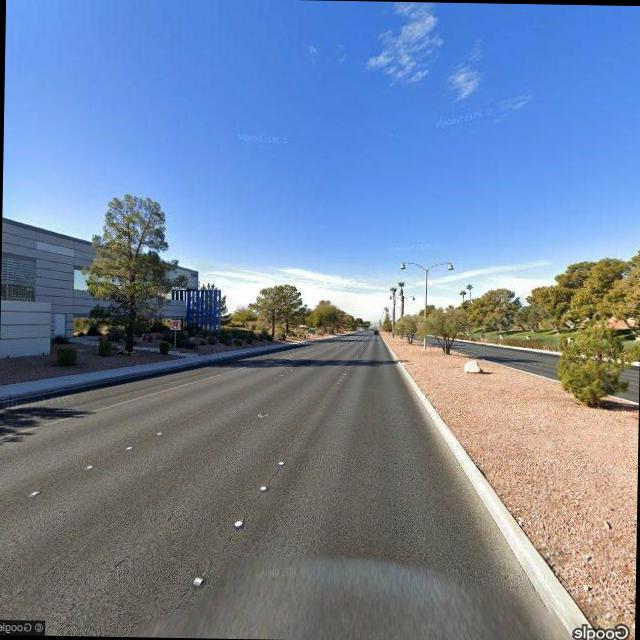crack: (0, 519, 114, 619), (219, 444, 297, 552)
